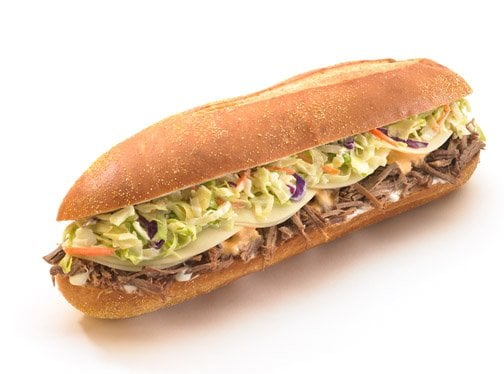soup: (42, 56, 492, 323)
